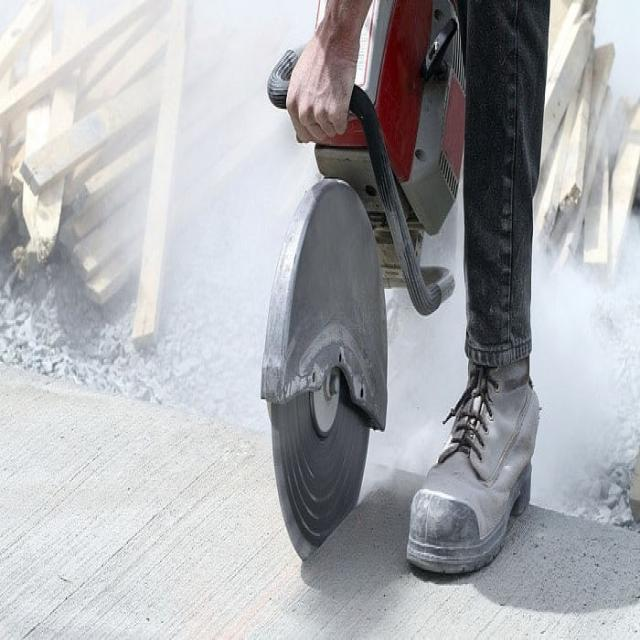boot: (403, 322, 549, 587)
